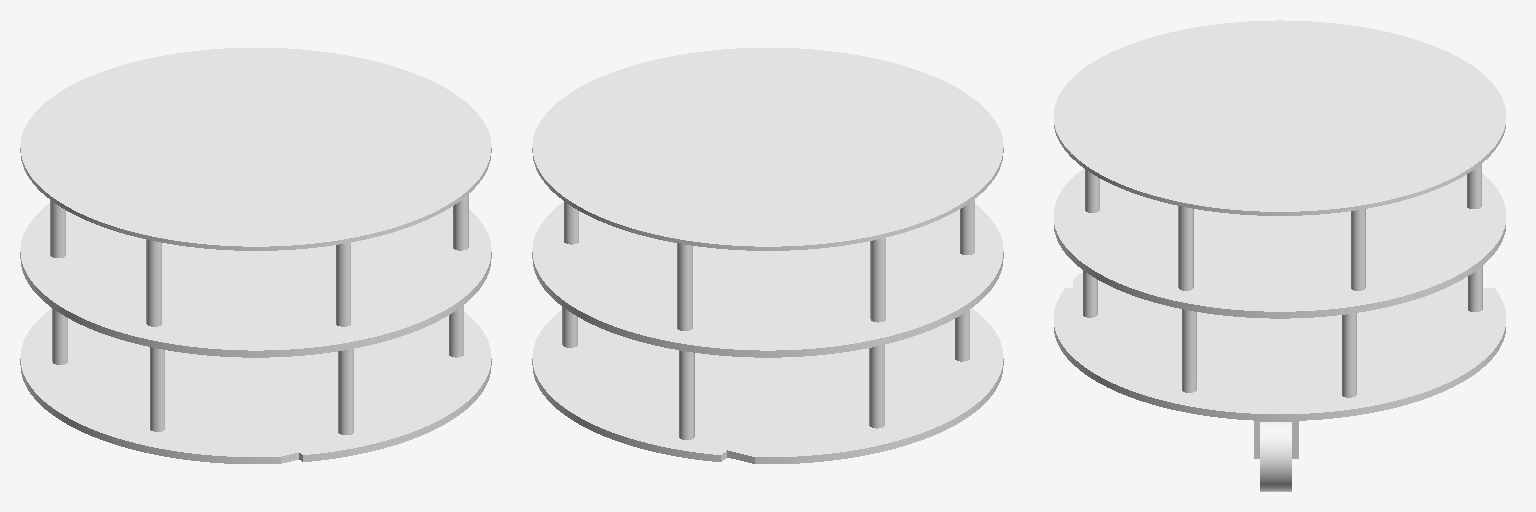
The robot description file, URDF, robot "AR_bot":
<?xml version="1.0" ?>
<!-- =================================================================================== -->
<!-- |    This document was autogenerated by xacro from AR.urdf.xacro                  | -->
<!-- |    EDITING THIS FILE BY HAND IS NOT RECOMMENDED                                 | -->
<!-- =================================================================================== -->
<robot name="AR_bot" xmlns:xacro="http://ros.org/wiki/xacro">
  <!-- Init color -->
  <material name="black">
    <color rgba="0.0 0.0 0.0 1.0"/>
  </material>
  <material name="dark">
    <color rgba="0.3 0.3 0.3 1.0"/>
  </material>
  <material name="light_black">
    <color rgba="0.4 0.4 0.4 1.0"/>
  </material>
  <material name="blue">
    <color rgba="0.0 0.0 0.8 1.0"/>
  </material>
  <material name="green">
    <color rgba="0.0 0.8 0.0 1.0"/>
  </material>
  <material name="grey">
    <color rgba="0.5 0.5 0.5 1.0"/>
  </material>
  <material name="orange">
    <color rgba="1.0 0.423529411765 0.0392156862745 1.0"/>
  </material>
  <material name="brown">
    <color rgba="0.870588235294 0.811764705882 0.764705882353 1.0"/>
  </material>
  <material name="red">
    <color rgba="0.8 0.0 0.0 1.0"/>
  </material>
  <material name="white">
    <color rgba="1.0 1.0 1.0 1.0"/>
  </material>
  <link name="base_footprint"/>
  <joint name="base_joint" type="fixed">
    <parent link="base_footprint"/>
    <child link="base_link"/>
    <origin rpy="0 0 0" xyz="0.0 0.0 0.0"/>
  </joint>
  <link name="base_link">
    <visual>
      <origin rpy="0 0 -1.57079632679" xyz="-0.15 -0.18 0.0"/>
      <geometry>
        <mesh filename="package://AR_description/meshes/base/Main_Frame.stl" scale="0.001 0.001 0.001"/>
      </geometry>
      <material name="white"/>
    </visual>
    <collision>
      <origin rpy="0 0 0" xyz="-0.032 0 0.070"/>
      <geometry>
        <box size="0.140 0.140 0.140"/>
      </geometry>
    </collision>
    <inertial>
      <origin rpy="0 0 0" xyz="-0.032 0 0"/>
      <mass value="1"/>
      <inertia ixx="0.01" ixy="0.0" ixz="0.0" iyy="0.01" iyz="0.0" izz="0.01"/>
    </inertial>
  </link>
  <joint name="wheel_left_joint" type="continuous">
    <parent link="base_link"/>
    <child link="wheel_left_link"/>
    <origin rpy="-1.57079632679 0 0" xyz="-0.050 -0.14 0.05"/>
    <axis xyz="0 0 1"/>
  </joint>
  <link name="wheel_left_link">
    <visual>
      <!--
            <origin xyz="0.185 0.05 -0.17" rpy="${M_PI*0.5} 0 0"/>
            <geometry>
                <mesh filename="package://AR_description/meshes/wheel/rwheel.stl" scale = "0.001 0.001 0.001"/>
            </geometry>
        -->
      <origin rpy="1.57079632679 0 0" xyz="0 0 0"/>
      <geometry>
        <mesh filename="package://AR_description/meshes/wheel/Tlwheel.stl" scale="0.0013 0.0007 0.0013"/>
      </geometry>
      <material name="dark"/>
    </visual>
    <collision>
      <origin rpy="0 0 0" xyz="0 0 0"/>
      <geometry>
        <cylinder length="0.018" radius="0.033"/>
      </geometry>
    </collision>
    <inertial>
      <origin xyz="0 0 0"/>
      <mass value="0.01"/>
      <inertia ixx="0.001" ixy="0.0" ixz="0.0" iyy="0.001" iyz="0.0" izz="0.001"/>
    </inertial>
  </link>
  <joint name="wheel_right_joint" type="continuous">
    <parent link="base_link"/>
    <child link="wheel_right_link"/>
    <origin rpy="-1.57079632679 0 0" xyz="-0.05 0.14 0.05"/>
    <axis xyz="0 0 1"/>
  </joint>
  <link name="wheel_right_link">
    <visual>
      <!--
            <origin xyz="0.18 0.05 -0.18" rpy="${M_PI*0.5} 0 0"/>
            <geometry>
                <mesh filename="package://AR_description/meshes/wheel/lwheel.stl" scale="0.001 0.001 0.001"/>
            </geometry>
        -->
      <origin rpy="1.57079632679 0 0" xyz="0 0 0"/>
      <geometry>
        <mesh filename="package://AR_description/meshes/wheel/Trwheel.stl" scale="0.0013 0.0007 0.0013"/>
      </geometry>
      <material name="dark"/>
    </visual>
    <collision>
      <origin rpy="0 0 0" xyz="0 0 0"/>
      <geometry>
        <cylinder length="0.018" radius="0.033"/>
      </geometry>
    </collision>
    <inertial>
      <origin xyz="0 0 0"/>
      <mass value="0.01"/>
      <inertia ixx="0.001" ixy="0.0" ixz="0.0" iyy="0.001" iyz="0.0" izz="0.001"/>
    </inertial>
  </link>
  <joint name="caster_back_joint" type="fixed">
    <parent link="base_link"/>
    <child link="caster_back_link"/>
    <origin rpy="-1.57079632679 0 0" xyz="-0.081 0 -0.004"/>
  </joint>
  <link name="caster_back_link">
    <collision>
      <origin rpy="0 0 0" xyz="0 0 0"/>
      <geometry>
        <box size="0.030 0.010 0.020"/>
      </geometry>
    </collision>
    <inertial>
      <origin xyz="0 0 0"/>
      <mass value="0.01"/>
      <inertia ixx="0.001" ixy="0.0" ixz="0.0" iyy="0.001" iyz="0.0" izz="0.001"/>
    </inertial>
  </link>
  <joint name="imu_joint" type="fixed">
    <parent link="base_link"/>
    <child link="imu_link"/>
    <origin rpy="0 0 0" xyz="0 0 0.09"/>
  </joint>
  <link name="imu_link"/>
  <joint name="scan_joint" type="fixed">
    <parent link="base_link"/>
    <child link="base_scan"/>
    <origin rpy="0 0 0" xyz="0.03 0 0.273"/>
  </joint>
  <link name="base_scan">
    <visual>
      <origin rpy="0 0 0" xyz="0 0 0.0"/>
      <geometry>
        <mesh filename="package://AR_description/meshes/sensor/lds.stl" scale="0.001 0.001 0.001"/>
      </geometry>
      <material name="dark"/>
    </visual>
    <collision>
      <origin rpy="0 0 0" xyz="0 0 0"/>
      <geometry>
        <cylinder length="0.0408" radius="0.070"/>
      </geometry>
    </collision>
    <inertial>
      <mass value="0.01"/>
      <origin xyz="0 0 0"/>
      <inertia ixx="0.001" ixy="0.0" ixz="0.0" iyy="0.001" iyz="0.0" izz="0.001"/>
    </inertial>
  </link>
</robot>

--- Facts derived from the render (not from the file) ---
Views: 3 orthographic renders of the robot side by side, from view 1: azimuth 30°, elevation 25°; view 2: azimuth 150°, elevation 25°; view 3: azimuth 270°, elevation 25°.
Model AR_bot with 7 links and 6 joints (2 continuous, 4 fixed), rooted at base_footprint, posed every joint at zero.
Visible links, largest first — view 1: base_link; view 2: base_link; view 3: base_link.
Boxes of the visible links, <box> form: base_link: <box>20,48,491,463</box>; base_link: <box>532,48,1003,463</box>; base_link: <box>1054,20,1505,491</box>.
Size in the robot's own frame: 0.3 by 0.3 by 0.2262 metres.
Meshes: 4 distinct files referenced, 1 mesh visuals loaded (1 binary STL); not drawn: 3 (reference not matched to a file when rendering).